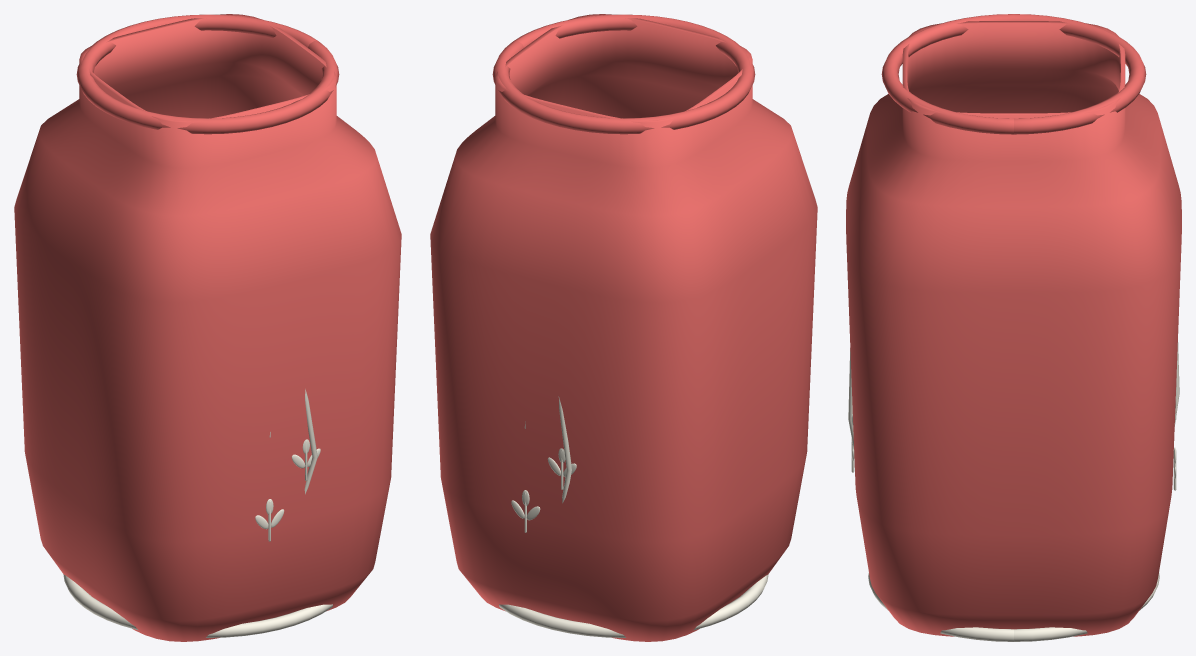
File: stock_vase_poppy.glb
3 renders of one model, left to right at view 1: azimuth 30°, elevation 25°; view 2: azimuth 150°, elevation 25°; view 3: azimuth 270°, elevation 25°, orthographic.
Parts seen in each view (by area): view 1: Continuous_hollow_vessel, Rolled_open_lip, Base_ring; view 2: Continuous_hollow_vessel, Rolled_open_lip, Base_ring; view 3: Continuous_hollow_vessel, Rolled_open_lip, Base_ring.
Boxes of the visible parts, x1=… form: Continuous_hollow_vessel: x1=14, y1=14, x2=401, y2=641; Rolled_open_lip: x1=76, y1=14, x2=339, y2=134; Base_ring: x1=63, y1=574, x2=332, y2=637; Continuous_hollow_vessel: x1=430, y1=14, x2=817, y2=641; Rolled_open_lip: x1=492, y1=14, x2=755, y2=134; Base_ring: x1=499, y1=574, x2=768, y2=637; Continuous_hollow_vessel: x1=846, y1=21, x2=1181, y2=636; Rolled_open_lip: x1=881, y1=14, x2=1146, y2=134; Base_ring: x1=868, y1=573, x2=1159, y2=641.
Bounding box in the file's own units: 0.198 × 0.341 × 0.198.
